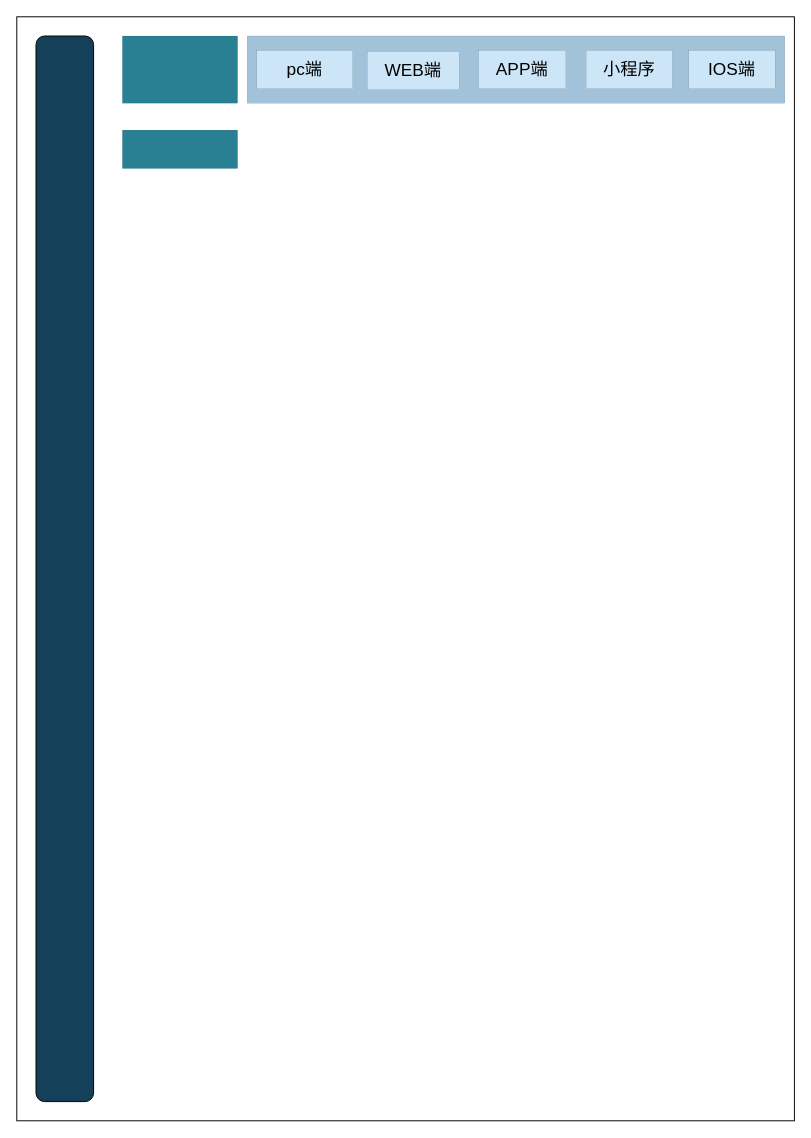
This 811x1138 diagram has some shape labels left out. Here are the shapes that lost their labels. From the top down, the box of each, then its label:
(122, 36, 237, 103): 展示层
(122, 130, 237, 168): API接口层
(35, 35, 94, 1102): 商 城 中 心
